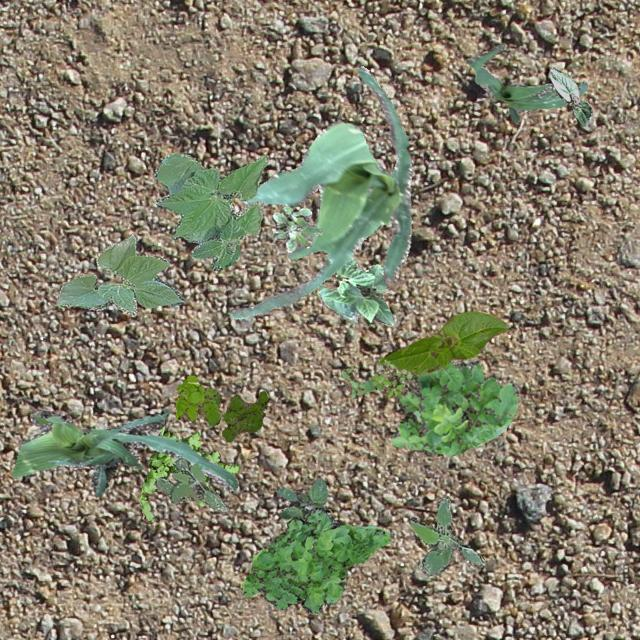crop: (227, 65, 410, 318), (11, 408, 238, 496), (154, 152, 268, 270), (56, 233, 182, 314), (464, 44, 586, 122), (378, 311, 506, 374), (316, 258, 392, 326), (548, 66, 592, 125)
weed: (242, 507, 391, 612), (390, 360, 518, 454), (138, 426, 238, 522), (408, 496, 484, 574), (154, 456, 226, 512), (341, 358, 412, 398), (270, 206, 322, 252), (174, 374, 220, 424), (220, 390, 266, 440), (274, 478, 326, 518)
